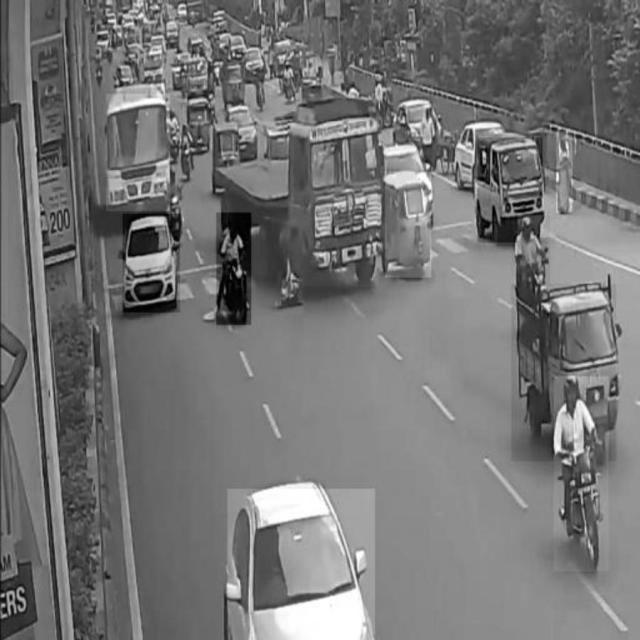person: (557, 132, 573, 213)
vehicle: (227, 489, 375, 640), (512, 285, 616, 462), (288, 122, 378, 287), (554, 377, 609, 572), (106, 93, 170, 211), (478, 138, 542, 242), (123, 214, 180, 312), (385, 172, 431, 278), (217, 213, 252, 326), (518, 216, 550, 306)
